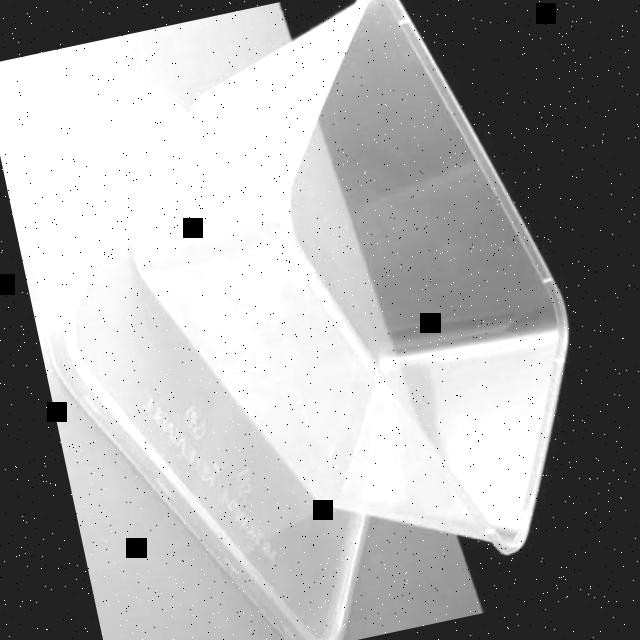plastic_box: (0, 0, 628, 640)
